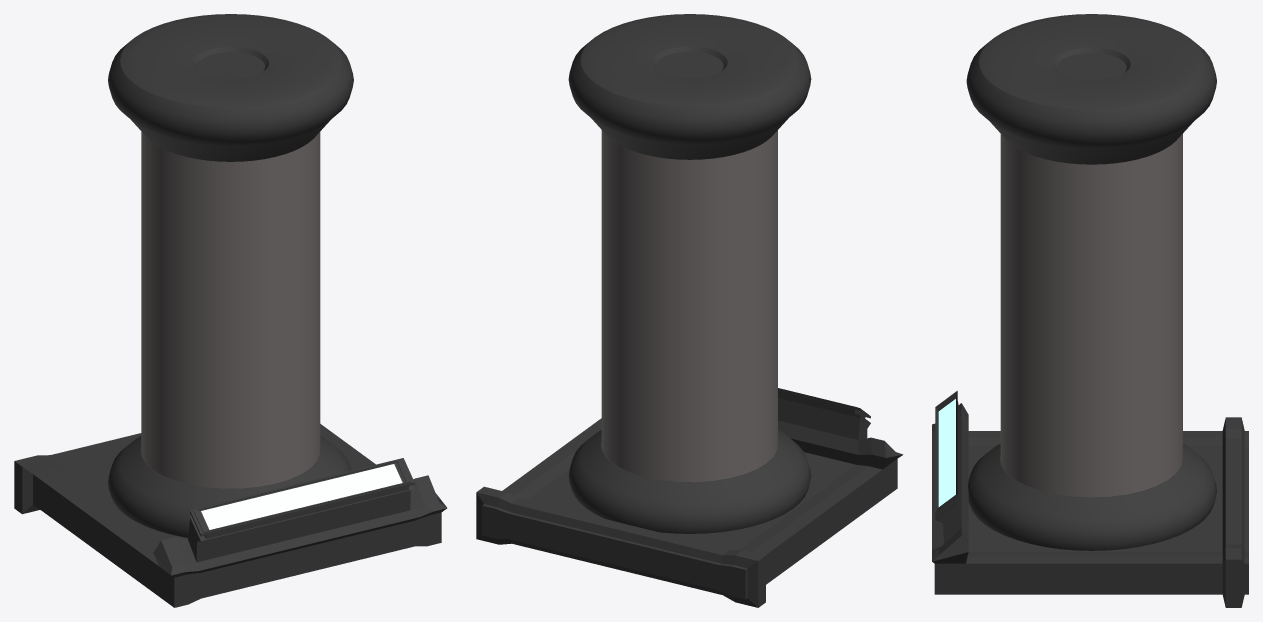
Rendered from TestTube.fbx.
The picture shows the model from 3 angles, left to right: view 1: azimuth 30°, elevation 25°; view 2: azimuth 150°, elevation 25°; view 3: azimuth 270°, elevation 25°; orthographic projection. The views are drawn at different scales.
Visible parts, largest first — view 1: TubeL, Cube, Torus.002, Torus.003; view 2: TubeL, Cube, Torus.002, Torus.003; view 3: TubeL, Torus.002, Cube, Torus.003.
Part boxes in pixels (left/top/right/bottom): TubeL: left=141, top=131, right=320, bottom=488; Cube: left=14, top=424, right=447, bottom=607; Torus.002: left=108, top=14, right=353, bottom=161; Torus.003: left=108, top=435, right=351, bottom=537; TubeL: left=601, top=130, right=777, bottom=482; Cube: left=476, top=388, right=903, bottom=607; Torus.002: left=568, top=14, right=811, bottom=159; Torus.003: left=568, top=430, right=811, bottom=533; TubeL: left=1000, top=134, right=1182, bottom=497; Torus.002: left=966, top=14, right=1216, bottom=164; Cube: left=932, top=390, right=1248, bottom=607; Torus.003: left=968, top=443, right=1216, bottom=550.
Bounding box in the file's own units: 335 × 526 × 316.
